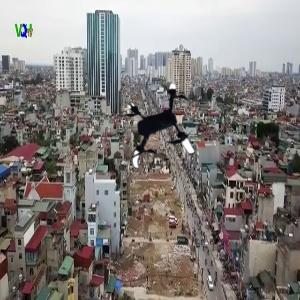drone: (115, 84, 211, 180)
